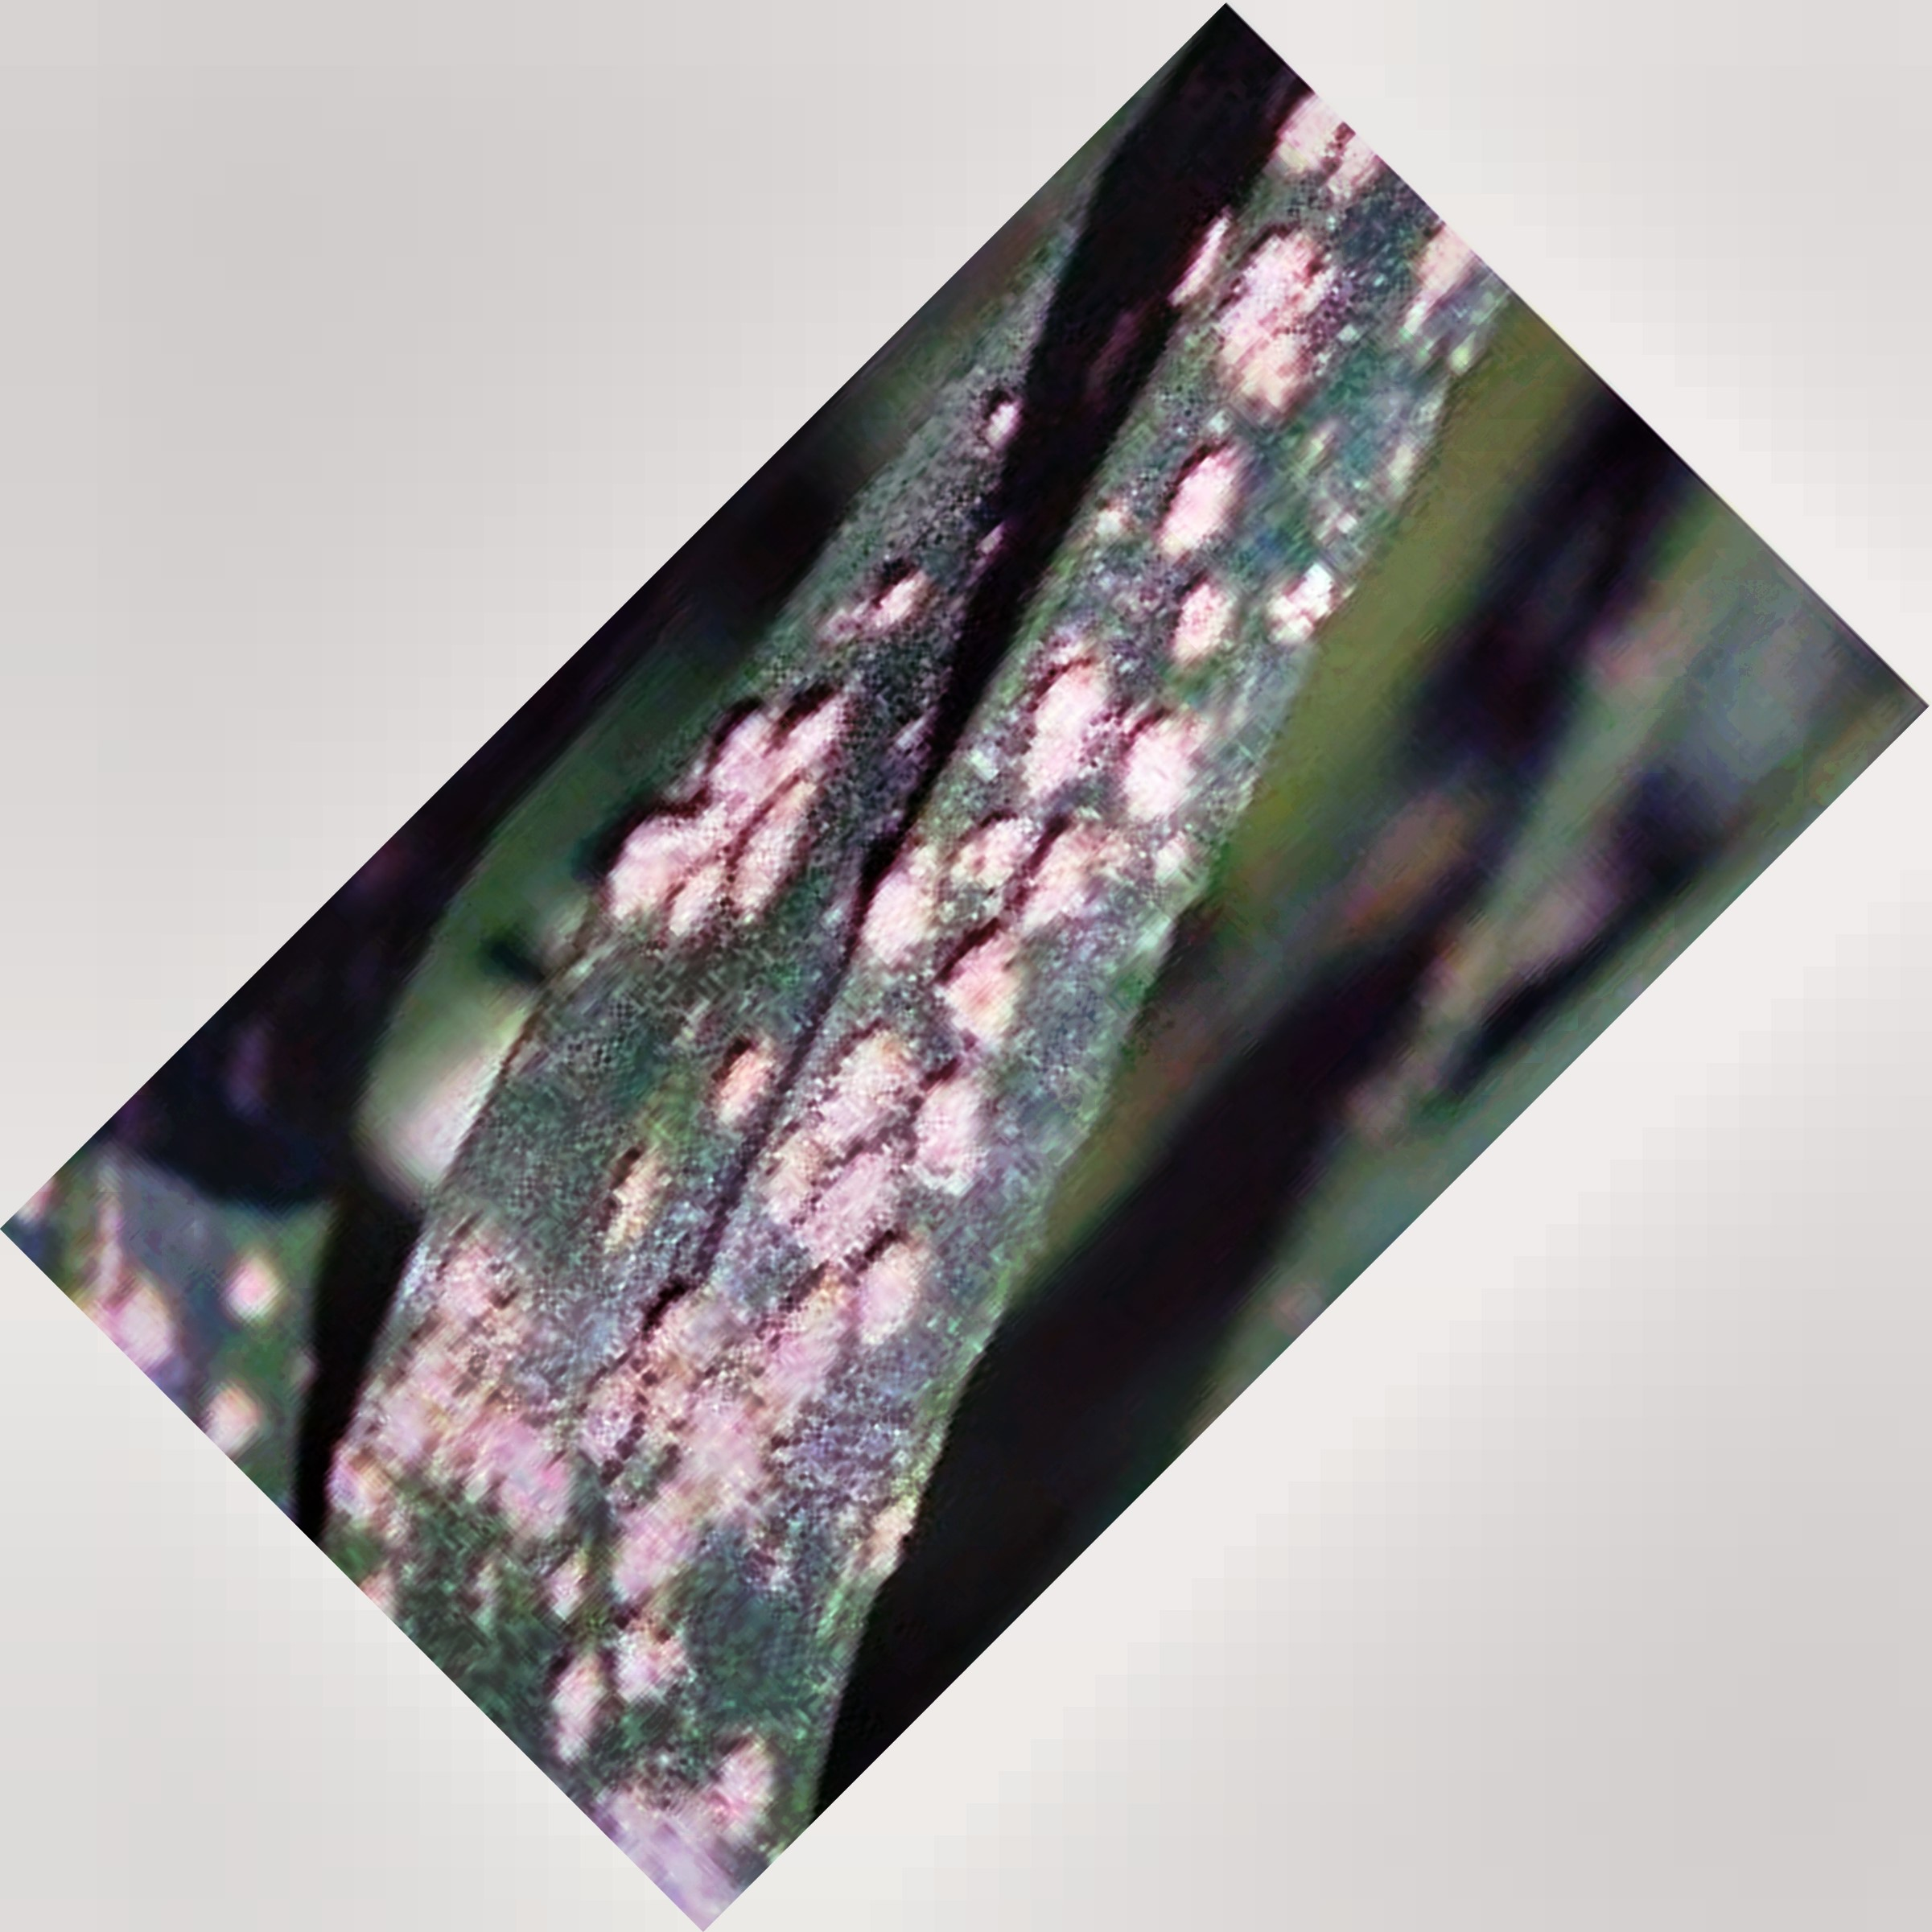Powdery Mildew: (455, 260, 1380, 1562)
